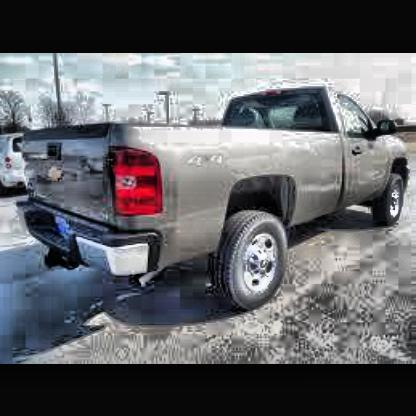Chevrolet Silverado 2500HD Regular Cab 2012: (20, 87, 415, 311)
